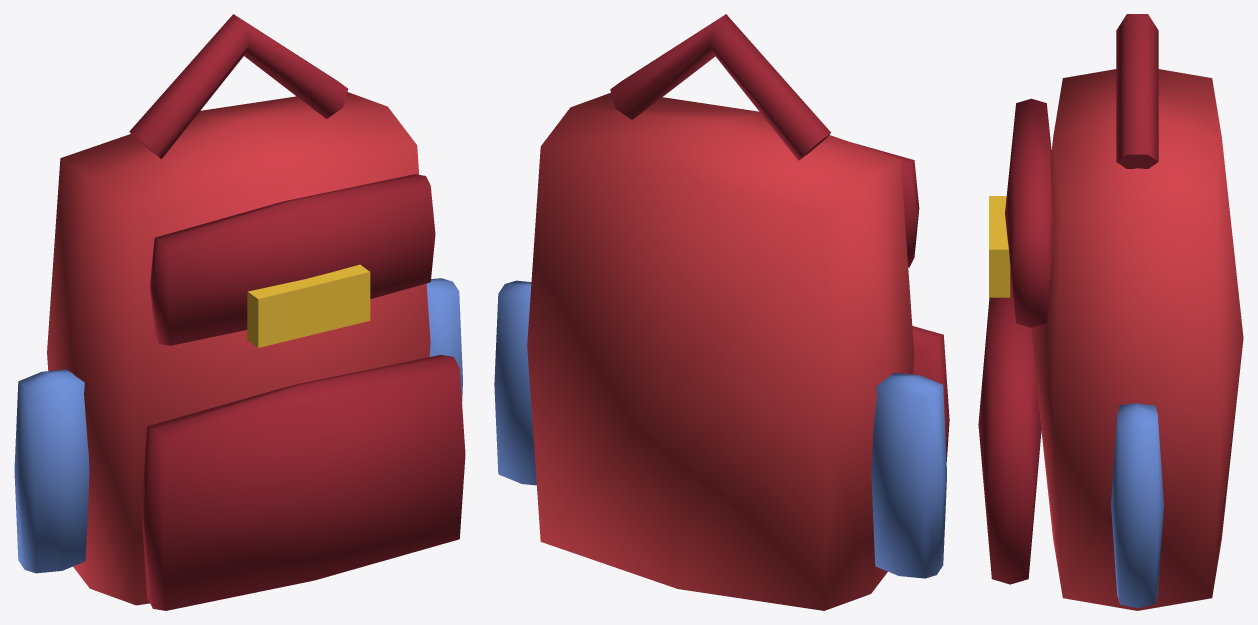
File: school_bag.glb
3 views of the same model, side by side, from view 1: azimuth 30°, elevation 25°; view 2: azimuth 150°, elevation 25°; view 3: azimuth 270°, elevation 25° (orthographic). The views are drawn at different scales.
Visible parts, largest first — view 1: root; view 2: root; view 3: root.
Boxes of the visible parts, box(x1,y1,x2,y2) form: root: box(14, 14, 465, 610); root: box(494, 14, 949, 610); root: box(978, 14, 1243, 610).
Bounding box in the file's own units: 0.47 × 0.5673 × 0.25.
